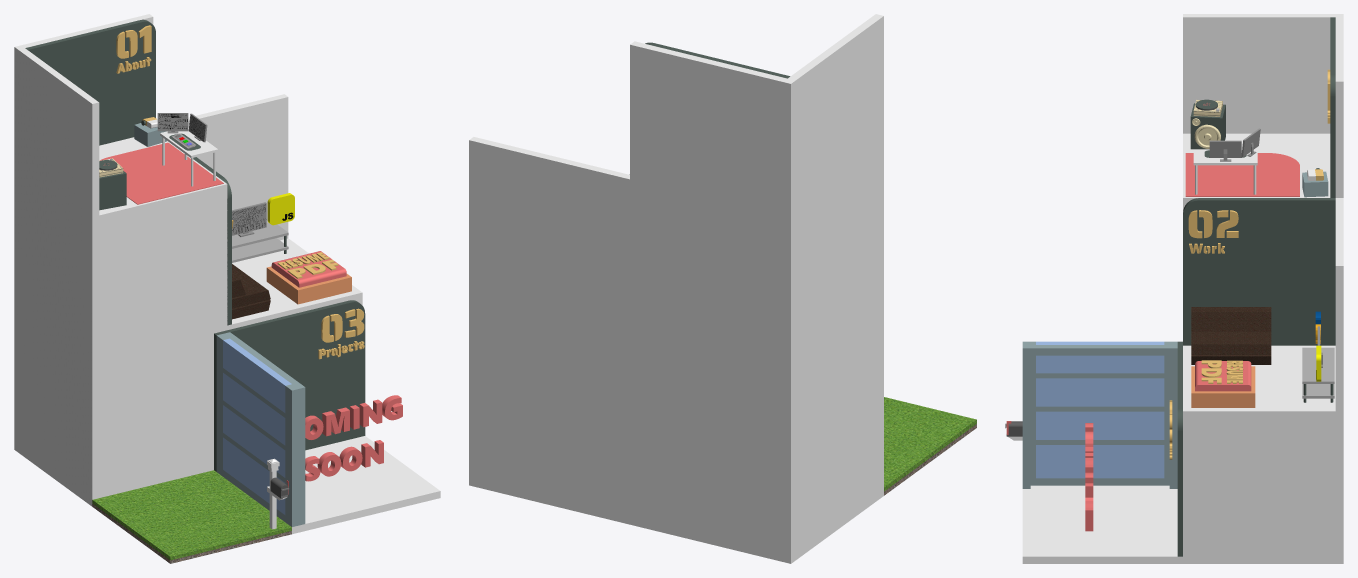
File: maxtower.glb
3 views of the same model, side by side, from view 1: azimuth 30°, elevation 25°; view 2: azimuth 150°, elevation 25°; view 3: azimuth 270°, elevation 25° (orthographic). The views are drawn at different scales.
Visible parts, largest first — view 1: group_10, group_7, group_4, group_6, group_35, group_72, group_74, group_75, group_75.004, group_75.005, group_75.006, group_61 (+11 smaller); view 2: group_10, group_7; view 3: group_10, group_5, group_74, group_75.003, group_35, group_72, group_75.001, group_75.002, group_75, group_57, group_56, group_61 (+10 smaller).
Boxes of the visible parts, x1=… form: group_10: x1=14, y1=14, x2=440, y2=534; group_7: x1=92, y1=470, x2=291, y2=560; group_4: x1=214, y1=300, x2=365, y2=471; group_6: x1=25, y1=19, x2=155, y2=145; group_35: x1=100, y1=142, x2=223, y2=204; group_72: x1=216, y1=332, x2=305, y2=526; group_74: x1=220, y1=336, x2=294, y2=523; group_75: x1=223, y1=338, x2=291, y2=412; group_75.004: x1=223, y1=373, x2=285, y2=445; group_75.005: x1=223, y1=405, x2=285, y2=477; group_75.006: x1=223, y1=437, x2=285, y2=514; group_61: x1=266, y1=266, x2=351, y2=304; group_10: x1=469, y1=14, x2=883, y2=563; group_7: x1=884, y1=397, x2=976, y2=491; group_10: x1=1022, y1=14, x2=1343, y2=563; group_5: x1=1183, y1=198, x2=1335, y2=345; group_74: x1=1030, y1=341, x2=1169, y2=485; group_75.003: x1=1036, y1=445, x2=1164, y2=478; group_35: x1=1185, y1=153, x2=1299, y2=196; group_72: x1=1022, y1=341, x2=1177, y2=488; group_75.001: x1=1036, y1=378, x2=1164, y2=406; group_75.002: x1=1036, y1=411, x2=1164, y2=439; group_75: x1=1036, y1=341, x2=1164, y2=373; group_57: x1=1191, y1=307, x2=1271, y2=331; group_56: x1=1191, y1=331, x2=1271, y2=354; group_61: x1=1191, y1=366, x2=1255, y2=407.
Bounding box in the file's own units: 6.1 × 8.69 × 6.42.
Materials: 26 (6 with a texture image).
